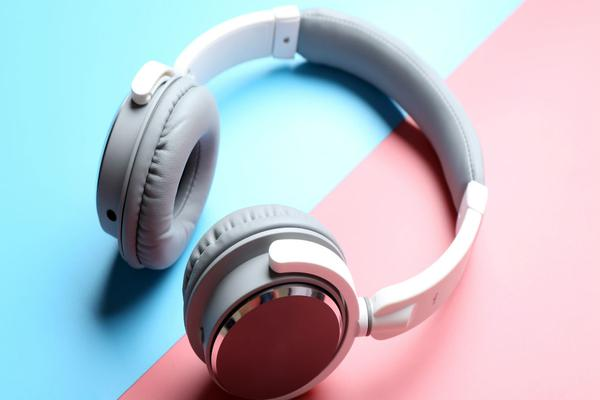headphone: (53, 8, 549, 393)
